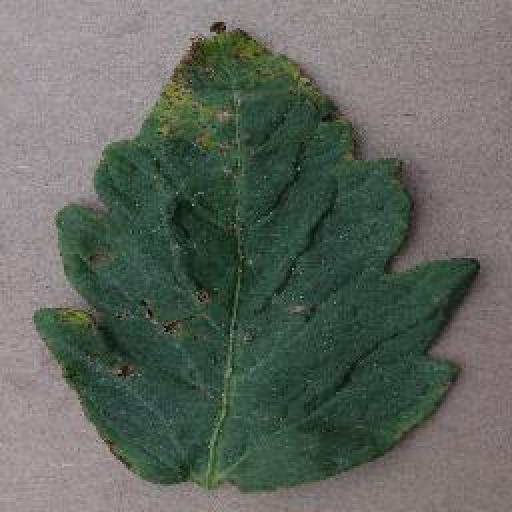Bacterial Spot: (31, 12, 485, 493)
